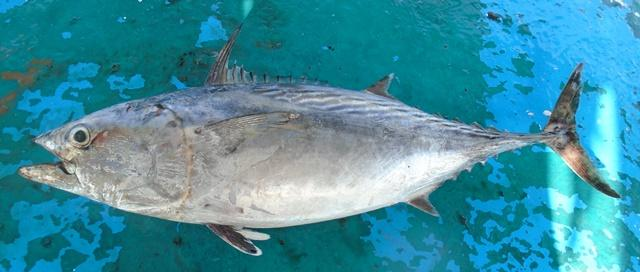Mulut: (14, 123, 76, 206)
Sirip Anal: (403, 180, 453, 223)
Sirip Dada: (196, 108, 304, 154)
Sirip Ekor: (538, 56, 628, 210)
Sirip Perut: (203, 216, 274, 260)
Sirip Punggung: (208, 19, 404, 105)
